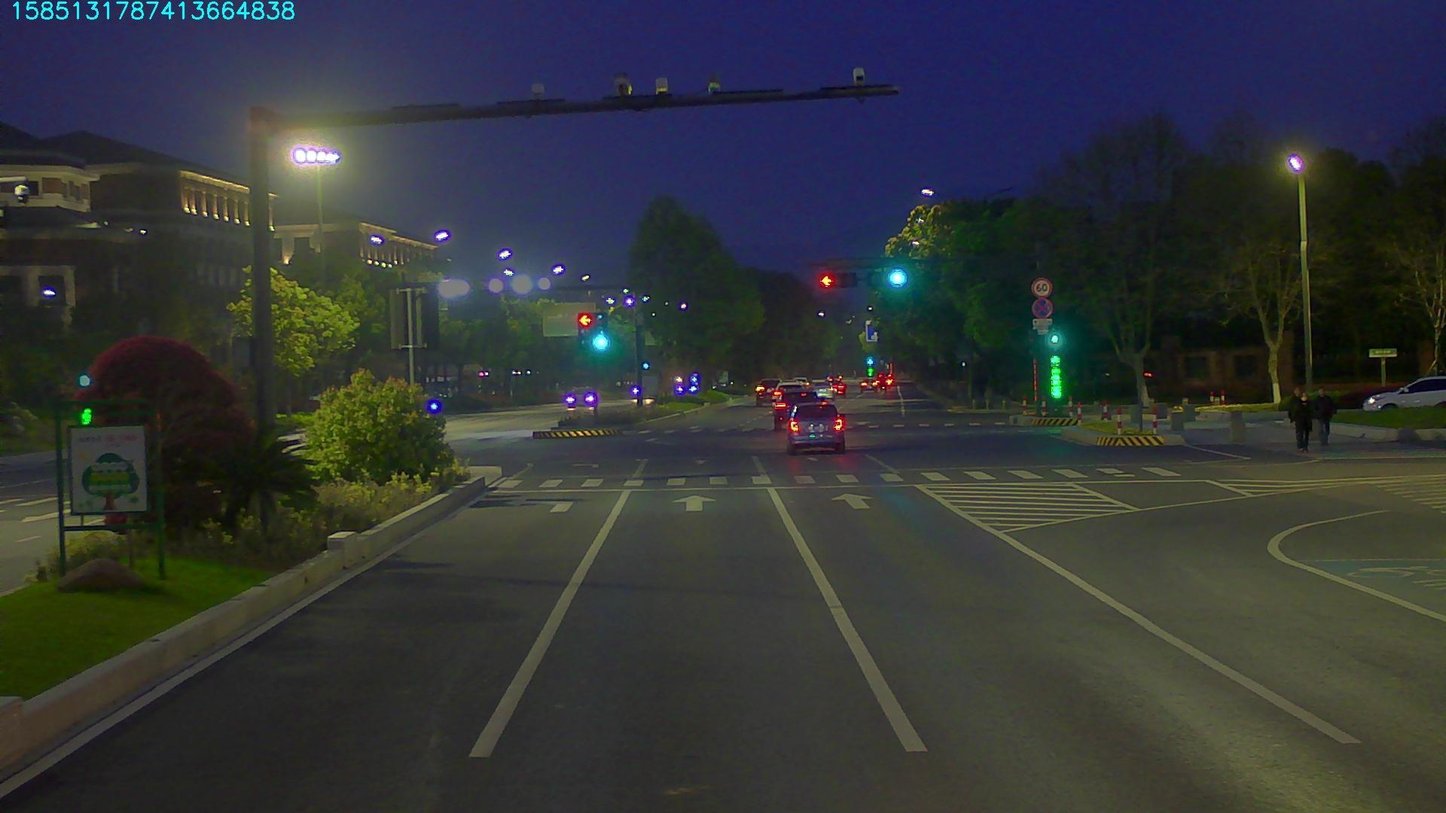green: (870, 273, 908, 288)
red: (817, 273, 859, 288)
